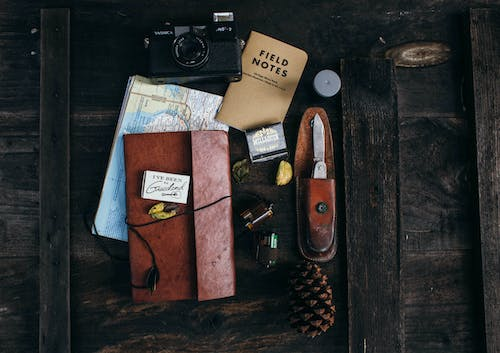knife: (309, 110, 328, 180)
